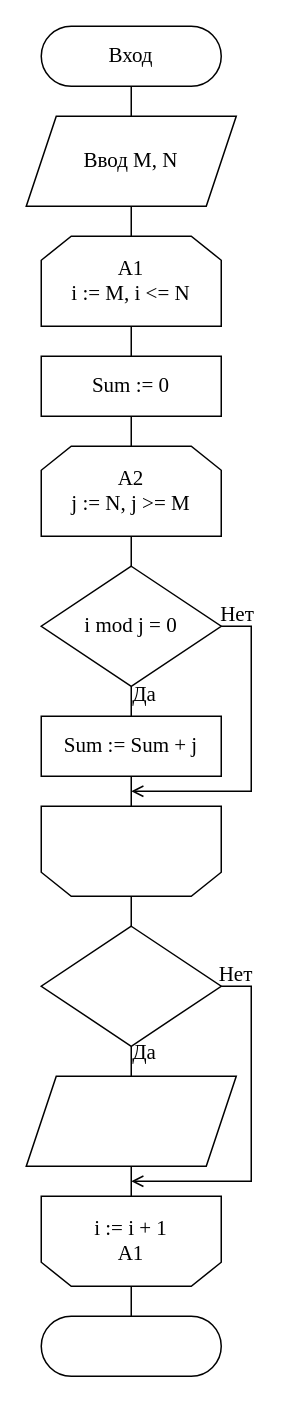
This 294x1403 diagram has some shape labels left out. The centre of each missing label's shape, as x and y in pixels:
j := j + 1 A2: (130,850)
Sum = i: (130,985)
Вывод i: (130,1120)
Выход: (130,1345)
